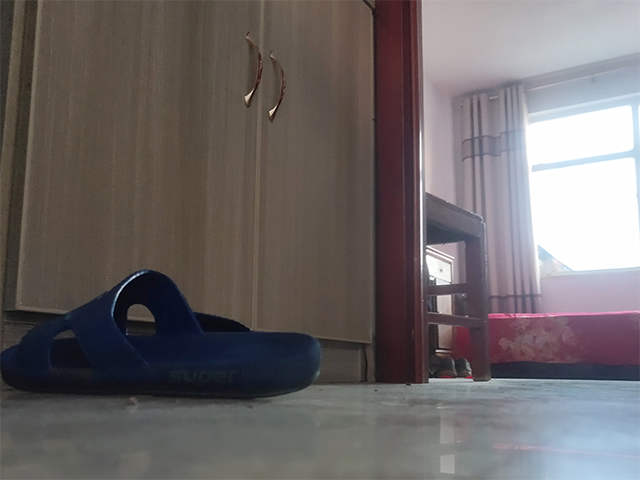bed: (452, 309, 640, 380)
cabinet: (1, 1, 379, 385)
curtain: (458, 82, 540, 312)
slippers: (1, 268, 323, 401)
stool: (423, 190, 493, 382)
